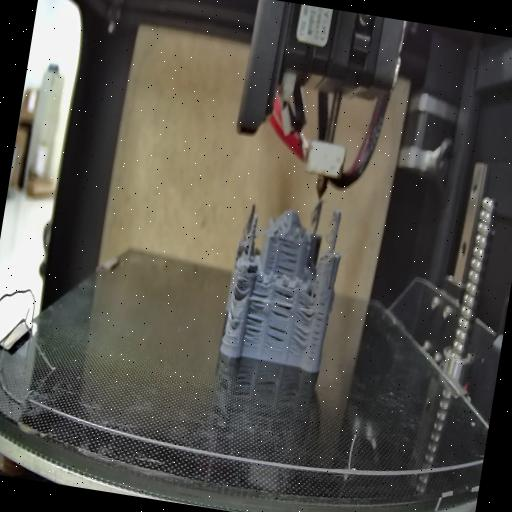cracks: (242, 289, 268, 343), (308, 296, 326, 366), (270, 238, 300, 278), (269, 288, 294, 318), (262, 322, 288, 348), (230, 272, 252, 300), (296, 296, 316, 322), (289, 324, 309, 348), (224, 305, 242, 331)
